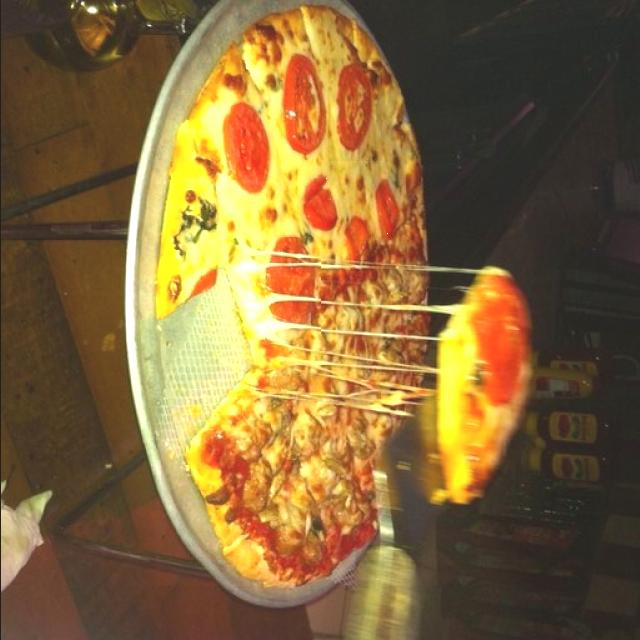pizza: (155, 7, 532, 586)
tomato: (264, 238, 320, 344), (214, 102, 272, 199), (327, 58, 381, 161), (281, 50, 328, 154), (299, 178, 348, 228), (372, 179, 408, 244), (340, 219, 381, 266)
